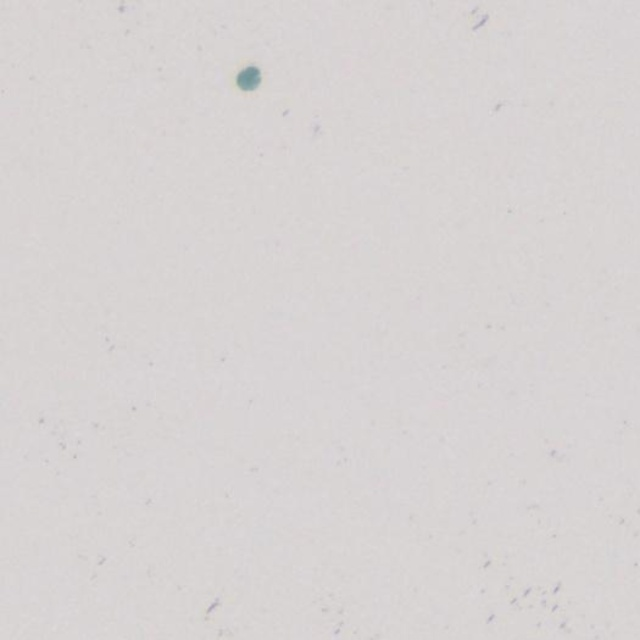non_viable: (236, 66, 261, 90)
